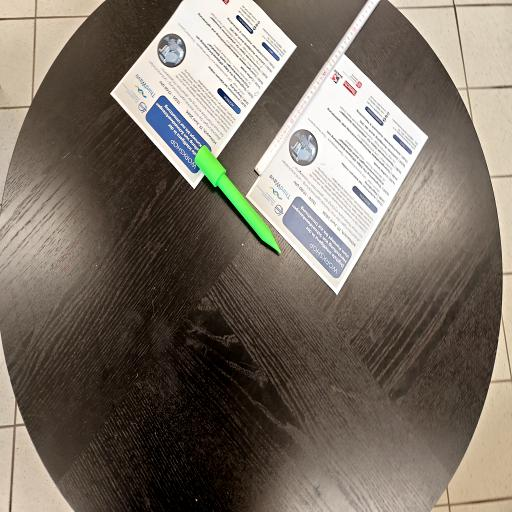Probe-Detection: (195, 145, 280, 253)
